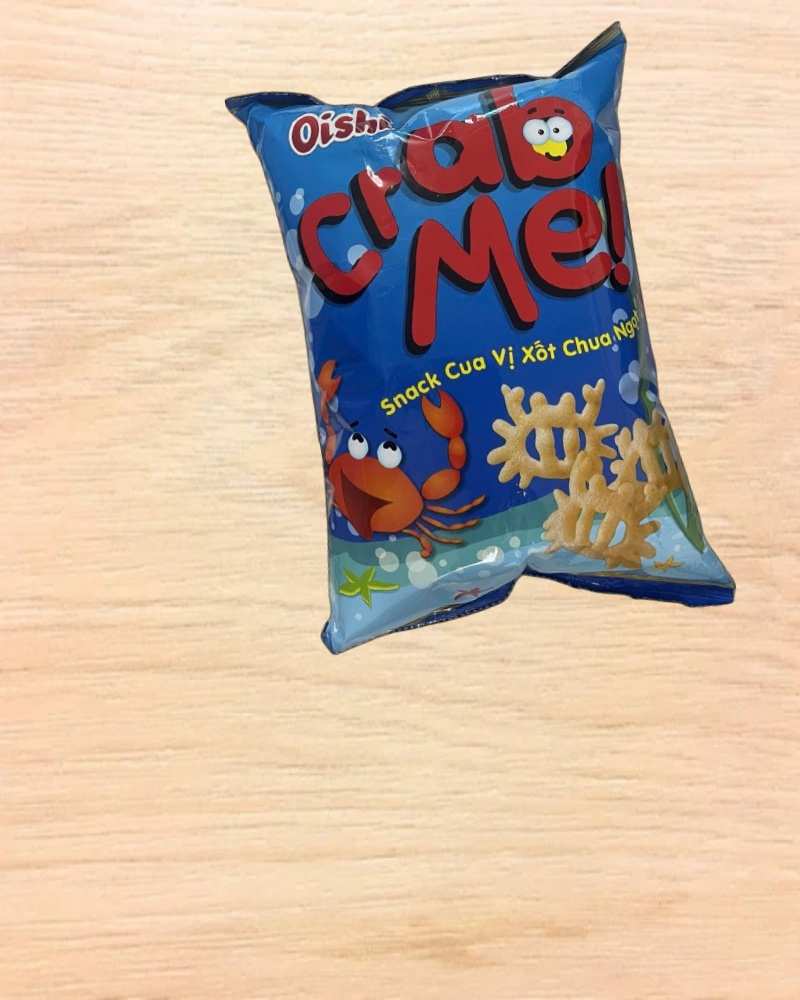Snack chay: (224, 19, 739, 677)
